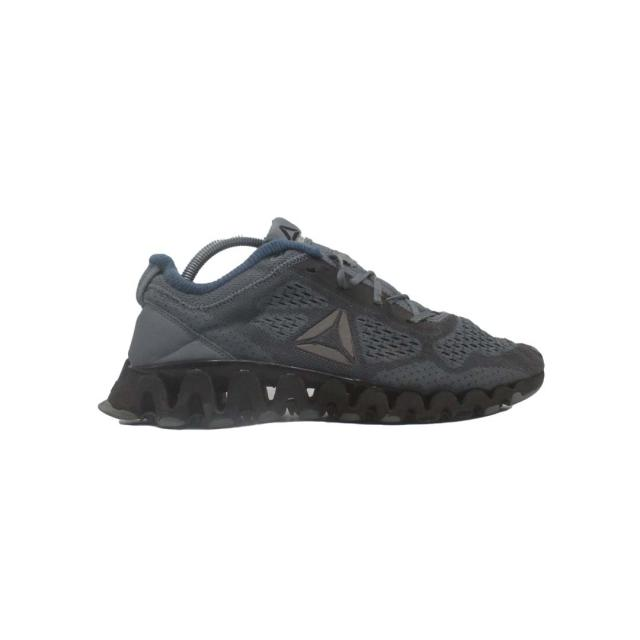heel: (121, 231, 177, 364)
midsole: (96, 357, 543, 431)
uppersole: (182, 221, 548, 384)
